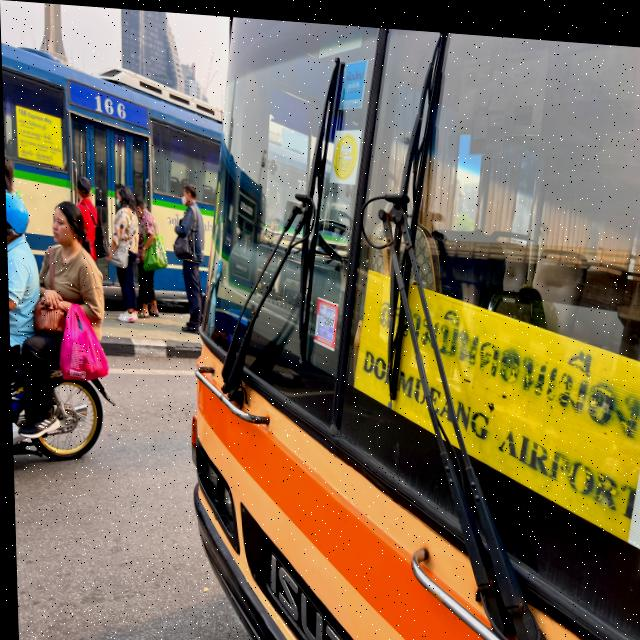BMTA-bus: (172, 10, 640, 640)
Destination-Sign-Normal-Expressway: (352, 265, 640, 532)
